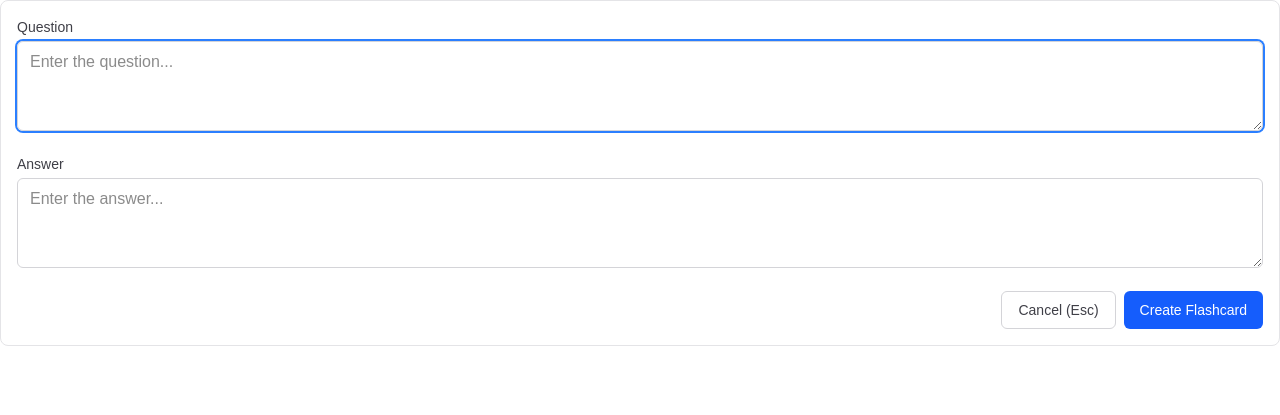
Form Validation Tests › FlashcardForm Validation › should show error when question is empty
Click the button "Create Flashcard" at (1193, 310), box [1124,291,1263,329]
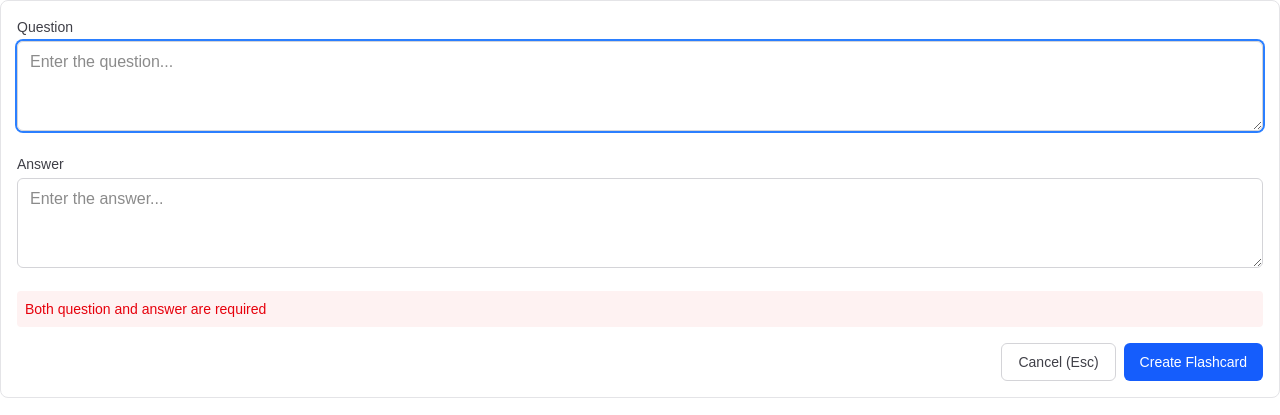
Expected: the text "Both question and answer are required" is shown, [17,291,1263,327]
